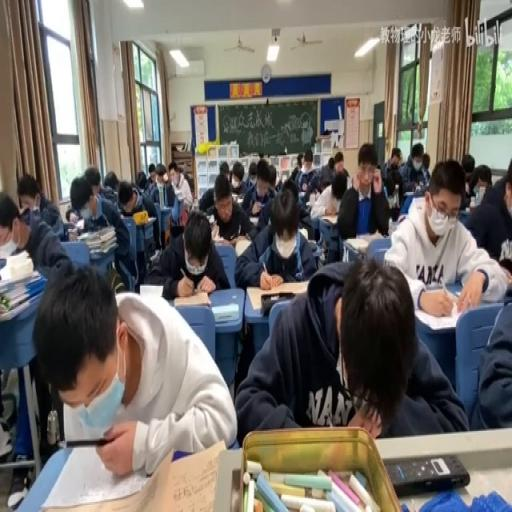calculator: (36, 441, 162, 509), (0, 253, 46, 322), (413, 287, 477, 330), (245, 280, 306, 309), (348, 232, 382, 250), (212, 300, 238, 322), (173, 292, 210, 307), (407, 194, 426, 216), (0, 234, 18, 257), (138, 283, 164, 297), (234, 236, 252, 256), (133, 213, 156, 226), (470, 186, 484, 206), (320, 213, 338, 225), (388, 219, 398, 235), (210, 224, 219, 240), (230, 194, 244, 204), (298, 227, 308, 239), (306, 238, 318, 248), (149, 248, 159, 260), (206, 214, 216, 224), (248, 214, 258, 224), (306, 199, 315, 208), (298, 189, 306, 199), (461, 205, 472, 212), (404, 191, 414, 196)
paper: (236, 250, 462, 440), (34, 263, 234, 477), (384, 156, 507, 314), (235, 183, 316, 286), (72, 170, 139, 288), (149, 204, 228, 298), (467, 282, 511, 426), (338, 142, 391, 248), (18, 169, 64, 238), (162, 161, 190, 232), (397, 142, 429, 196), (292, 150, 322, 200), (198, 165, 222, 210), (308, 188, 342, 218), (459, 152, 476, 199), (0, 192, 18, 236), (228, 158, 246, 193), (498, 230, 511, 273), (384, 146, 402, 176), (330, 151, 349, 179), (84, 164, 101, 194), (281, 179, 299, 205), (102, 170, 120, 194), (474, 168, 492, 190), (134, 169, 148, 192), (118, 190, 132, 212), (266, 162, 277, 188), (247, 162, 258, 186), (183, 171, 194, 195), (154, 165, 166, 185), (18, 204, 30, 224), (421, 152, 430, 171), (320, 180, 332, 194), (289, 165, 299, 181), (219, 161, 229, 176), (146, 164, 156, 179), (326, 155, 334, 169), (64, 206, 71, 222), (296, 154, 303, 169), (304, 155, 311, 169), (258, 152, 264, 158)
person: (386, 452, 470, 494), (412, 183, 419, 192)
